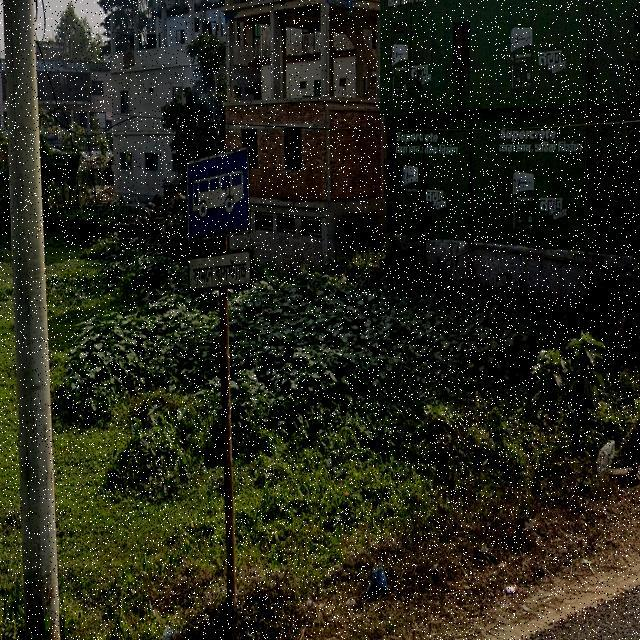Ahead-the-bus-station: (149, 118, 282, 311)
